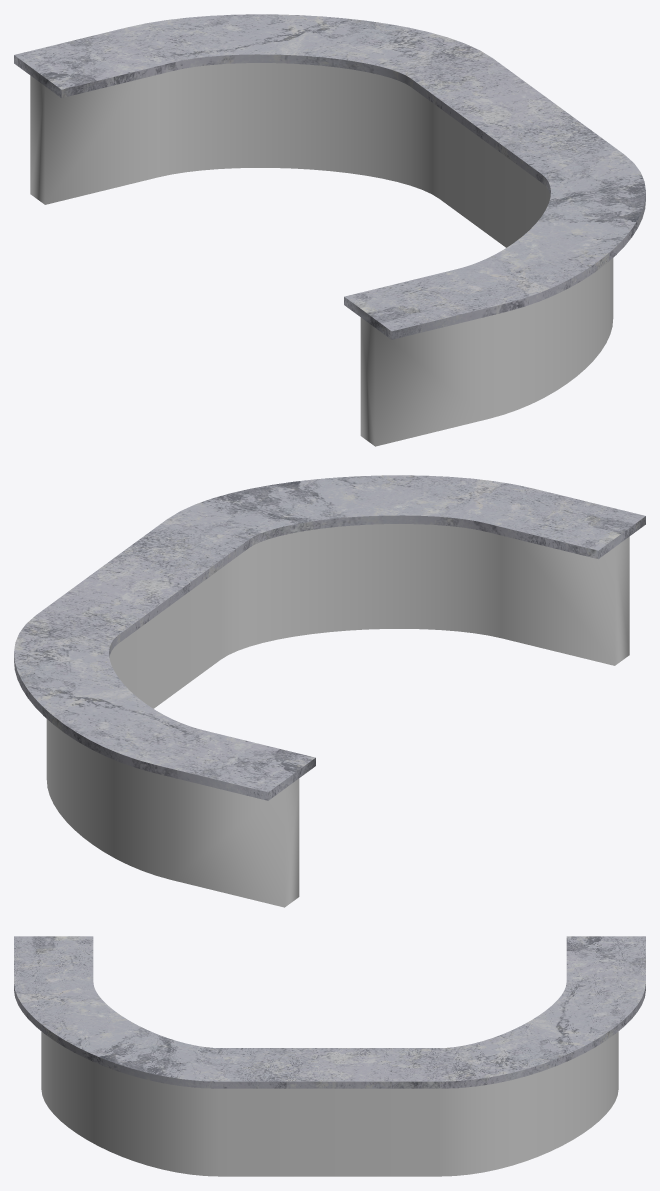
File: balcao.fbx
The picture shows the model from 3 angles, top to bottom: view 1: azimuth 30°, elevation 25°; view 2: azimuth 150°, elevation 25°; view 3: azimuth 270°, elevation 25°; orthographic projection. The views are drawn at different scales.
Visible parts, largest first — view 1: Cube; view 2: Cube; view 3: Cube.
Part boxes in pixels (x1=…): Cube: x1=14, y1=14, x2=645, y2=446; Cube: x1=14, y1=475, x2=645, y2=907; Cube: x1=14, y1=936, x2=645, y2=1176.
Bounding box in the file's own units: 627 × 214 × 1153.
